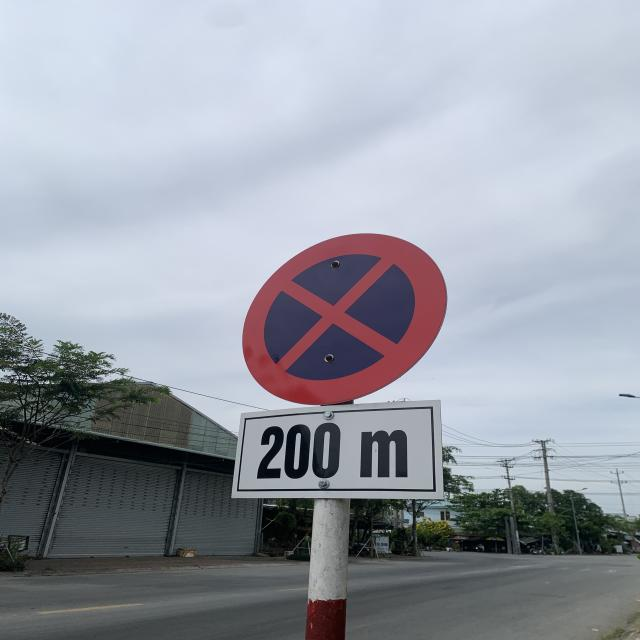Cam_Dung_Va_Dau_Xe: (244, 232, 450, 408)
